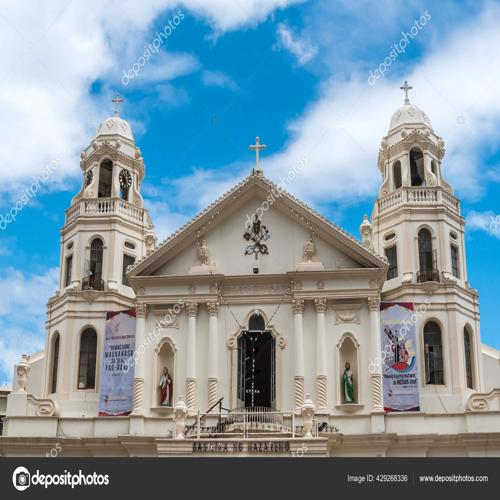Quiapo Church: (32, 77, 481, 445)
